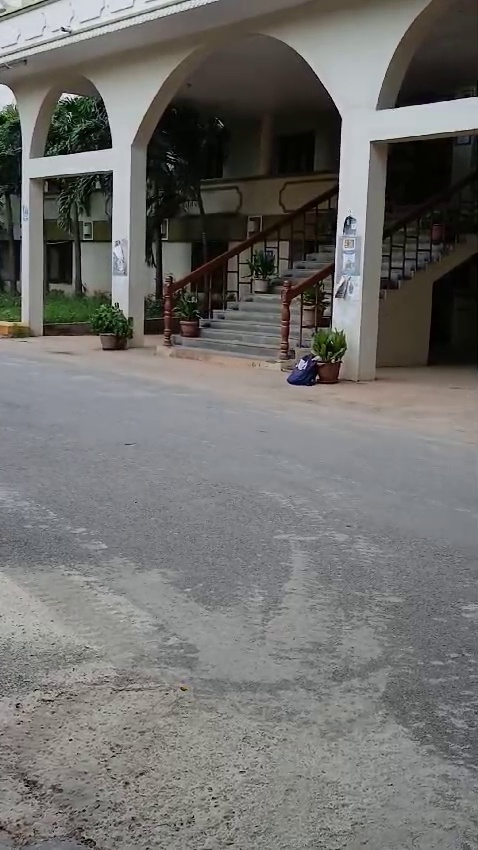bag: (281, 347, 315, 390)
